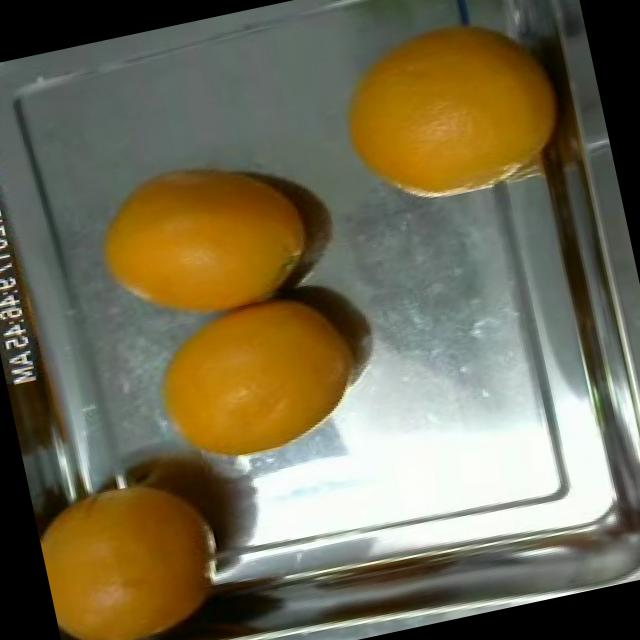Fruit: (69, 140, 293, 353)
